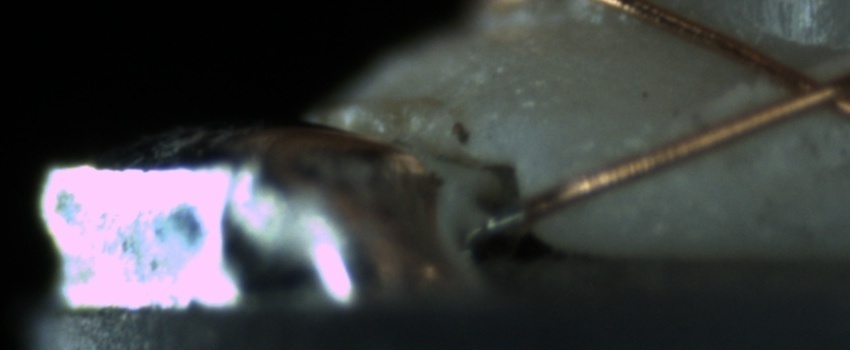CL: (753, 46, 850, 124)
TS: (478, 202, 529, 236)
